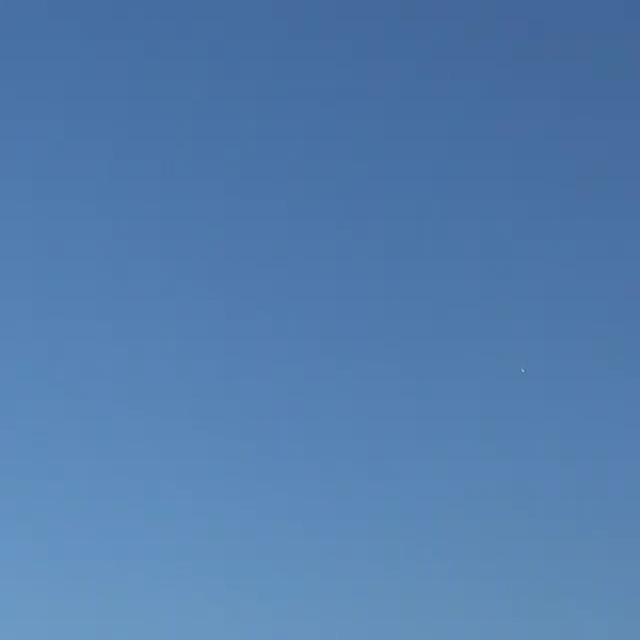AirPlane: (510, 354, 536, 387)
